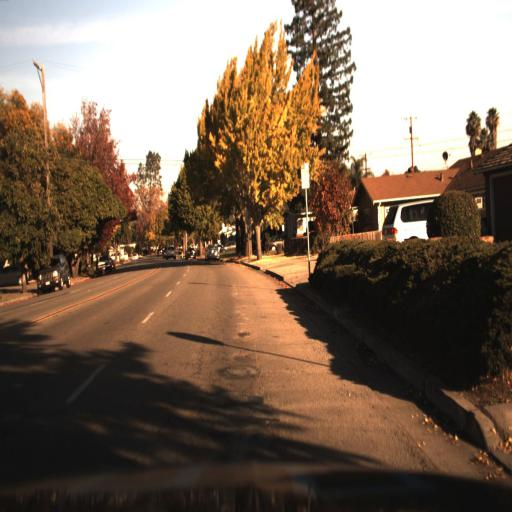car: (380, 192, 462, 246), (35, 252, 74, 292), (36, 252, 71, 296), (264, 230, 290, 256), (96, 249, 114, 276), (204, 245, 222, 265), (220, 241, 241, 254), (165, 243, 178, 262), (204, 244, 219, 260)
